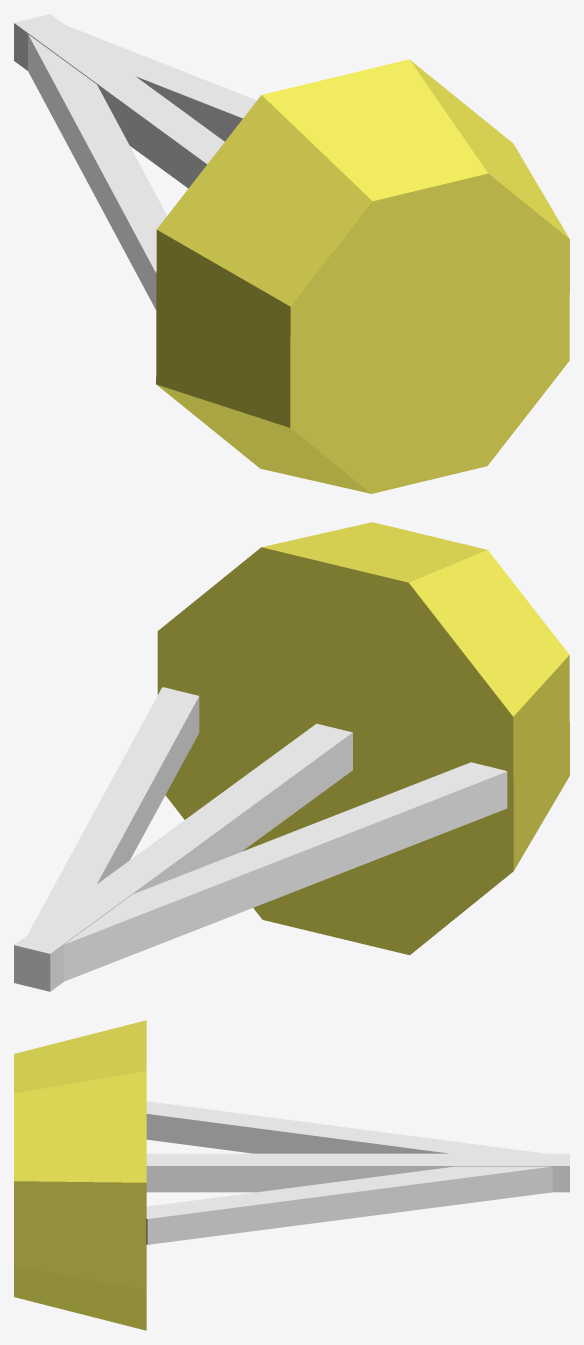
The model's file is TempleOSRight.obj.
The picture shows the model from 3 angles, top to bottom: view 1: azimuth 30°, elevation 25°; view 2: azimuth 150°, elevation 25°; view 3: azimuth 270°, elevation 25°; orthographic projection. The views are drawn at different scales.
Visible parts, largest first — view 1: RightSide_Cylinder.001; view 2: RightSide_Cylinder.001; view 3: RightSide_Cylinder.001.
Boxes of the visible parts, x1=… form: RightSide_Cylinder.001: x1=14, y1=14, x2=569, y2=493; RightSide_Cylinder.001: x1=14, y1=522, x2=569, y2=991; RightSide_Cylinder.001: x1=14, y1=1020, x2=569, y2=1330.
Bounding box in the file's own units: 0.2764 × 0.2764 × 0.5341.
Materials: 1 (1 with a texture image).
